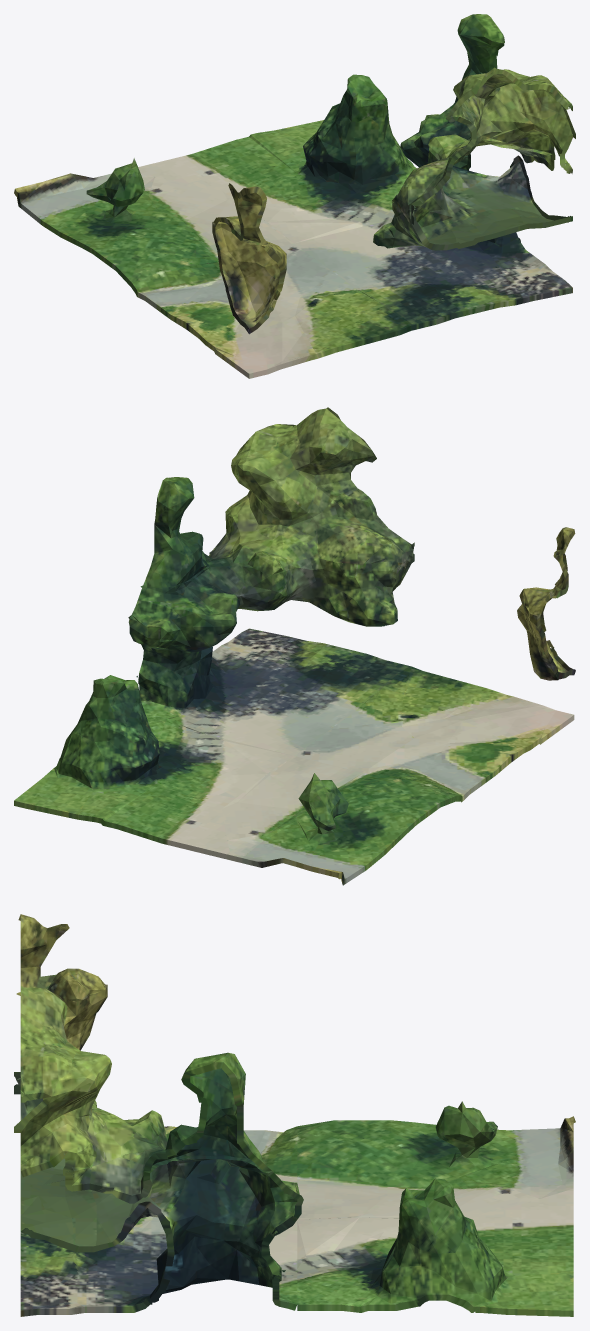
File: BuildingMesh-00080.gltf
3 renders of one model, top to bottom at view 1: azimuth 30°, elevation 25°; view 2: azimuth 150°, elevation 25°; view 3: azimuth 270°, elevation 25°, orthographic. The views are drawn at different scales.
Visible parts, largest first — view 1: BuildingMesh-00080; view 2: BuildingMesh-00080; view 3: BuildingMesh-00080.
Part boxes in pixels (x1=…): BuildingMesh-00080: x1=14, y1=14, x2=575, y2=378; BuildingMesh-00080: x1=14, y1=407, x2=575, y2=885; BuildingMesh-00080: x1=14, y1=914, x2=575, y2=1316.
Bounding box in the file's own units: 1.58 × 1.15 × 1.98.
Materials: 1 (1 with a texture image).
